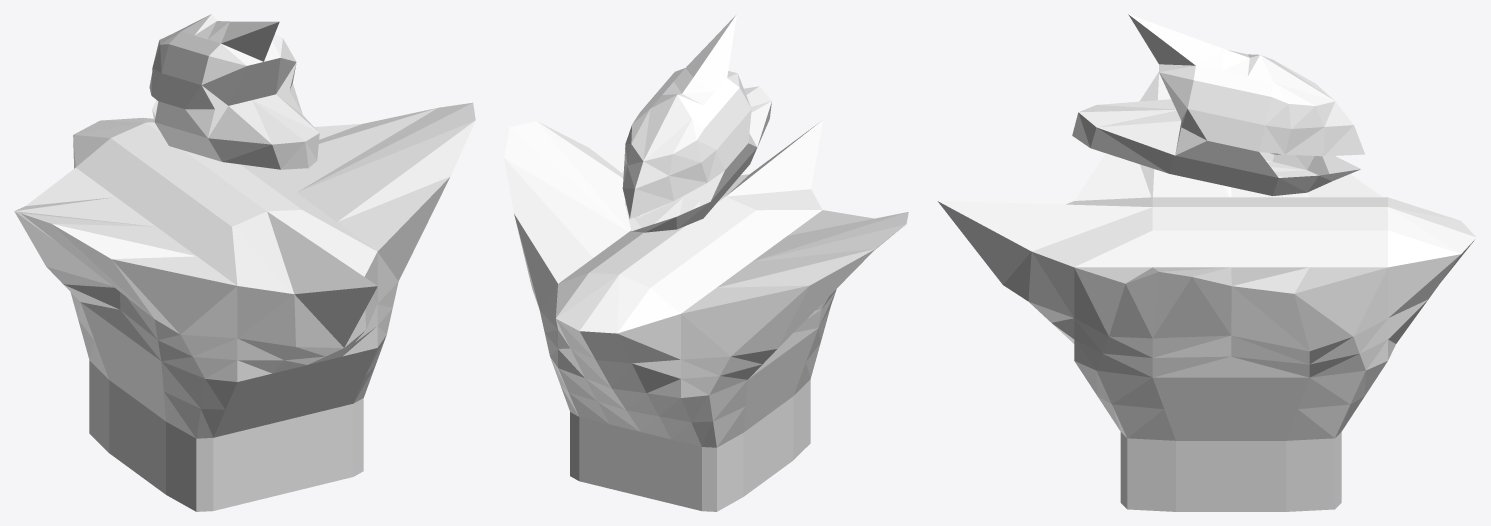
File: boss_body.obj
The picture shows the model from 3 angles, left to right: view 1: azimuth 30°, elevation 25°; view 2: azimuth 150°, elevation 25°; view 3: azimuth 270°, elevation 25°; orthographic projection. The views are drawn at different scales.
Visible parts, largest first — view 1: 立方体.007; view 2: 立方体.007; view 3: 立方体.007.
Boxes of the visible parts, x1,y1,x2,y2 form: 立方体.007: (14,14,475,511); 立方体.007: (504,14,908,511); 立方体.007: (937,14,1476,511).
Bounding box in the file's own units: 18.32 × 18.16 × 19.48.
1 material, 1 textured.
